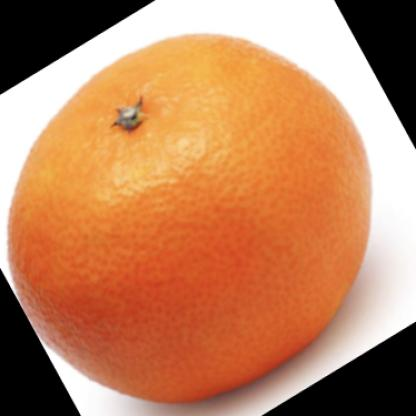fresh: (9, 33, 372, 402)
